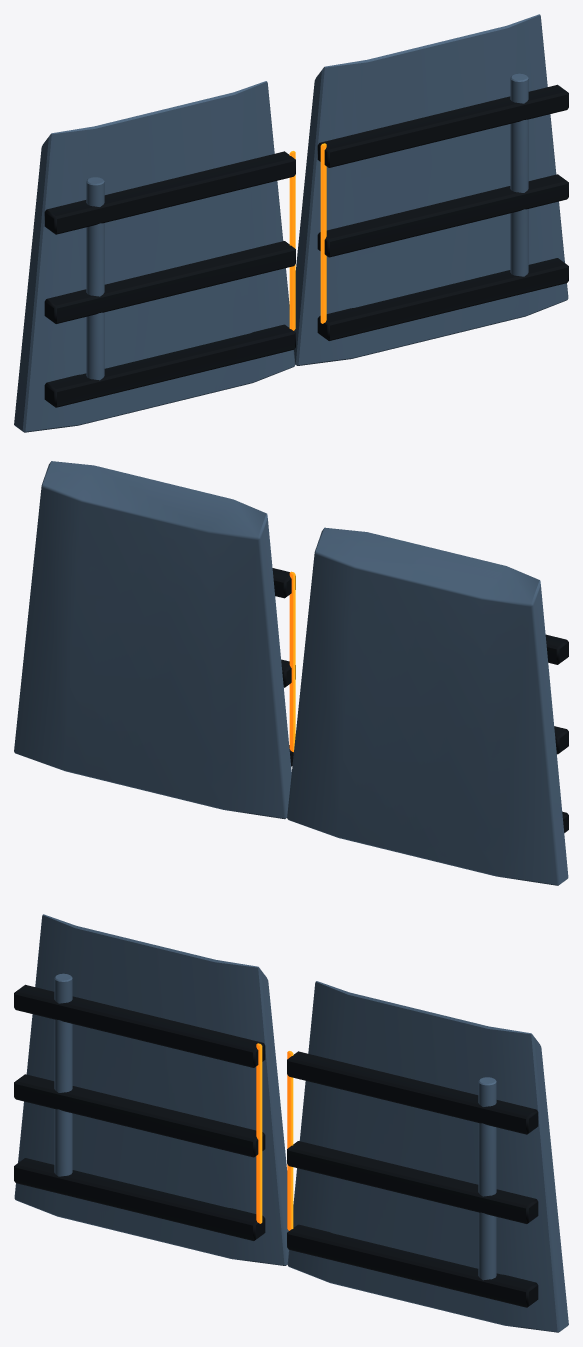
Rendered from Containment_Gate.fbx.
3 views of the same model, one above another, from view 1: azimuth 30°, elevation 25°; view 2: azimuth 150°, elevation 25°; view 3: azimuth 330°, elevation 25° (orthographic).
Visible parts, largest first — view 1: Containment_Gate; view 2: Containment_Gate; view 3: Containment_Gate.
Boxes of the visible parts, x1=… form: Containment_Gate: x1=14, y1=14, x2=568, y2=432; Containment_Gate: x1=14, y1=461, x2=568, y2=885; Containment_Gate: x1=14, y1=914, x2=568, y2=1332.
Size of the model in its own units: 4.92 by 2.53 by 0.5098.
